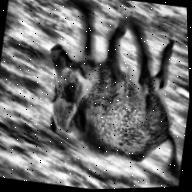boar: (31, 0, 192, 181)
